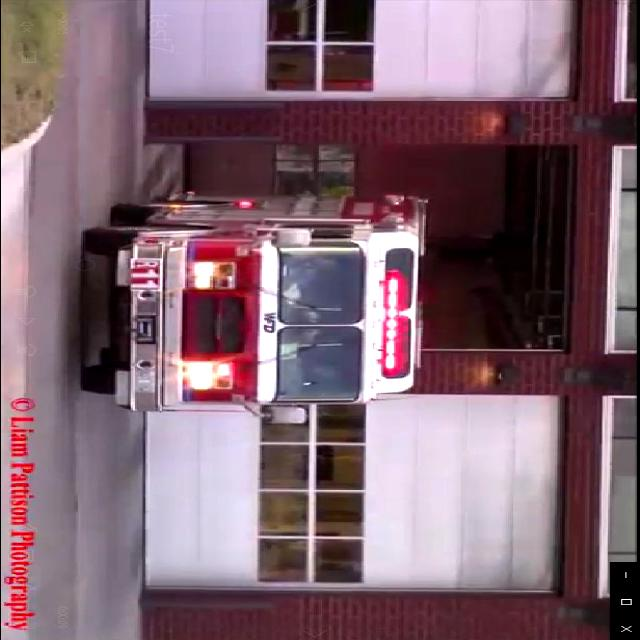emergency: (65, 192, 432, 432)
